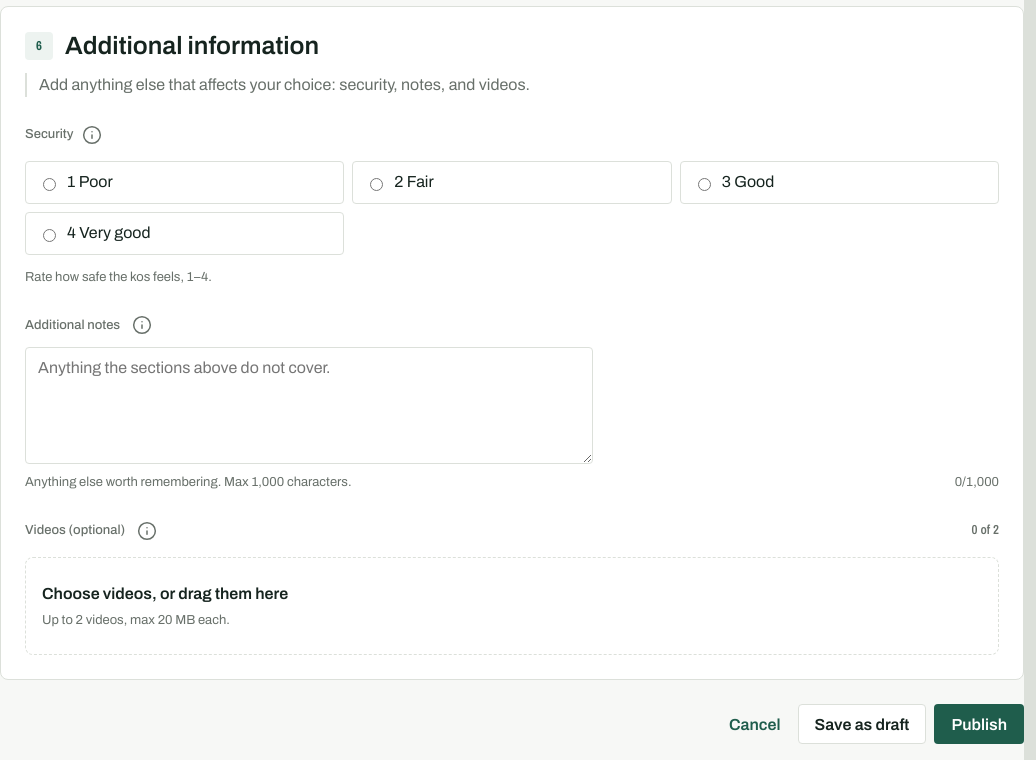
it: saving and leaving › clears an error once its field is fixed and left, and counts the section down
(page scrolled)
Click the button "Publish": [979, 724] box [934,704,1024,744]
(page scrolled)
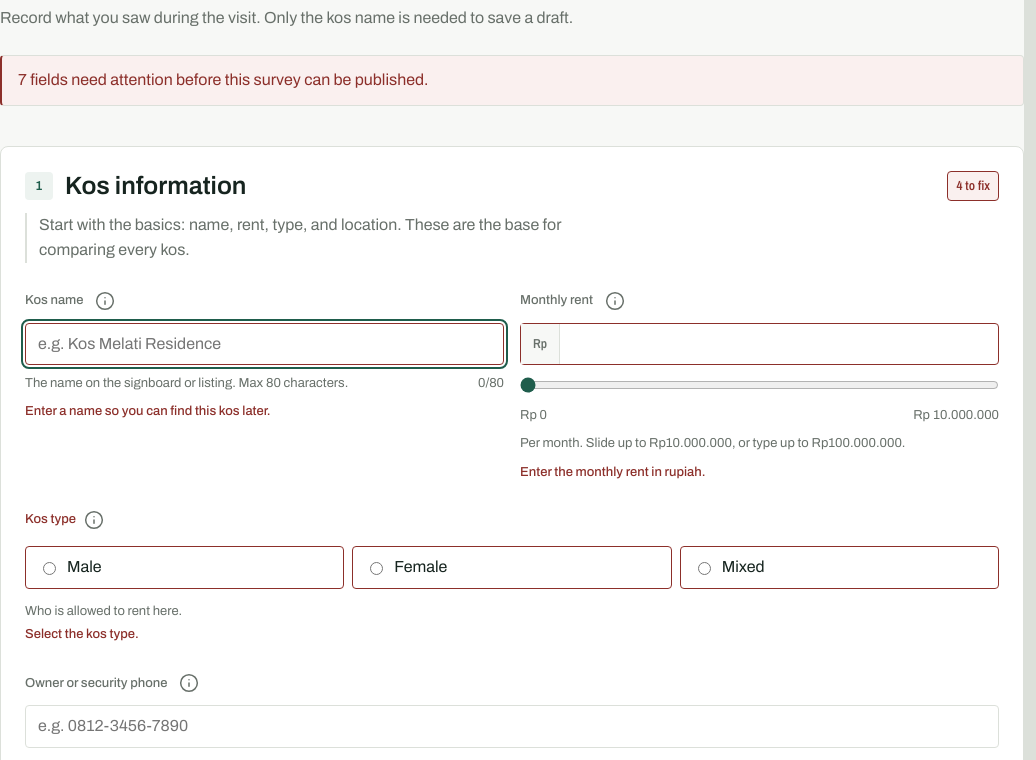
Result: the text "4 to fix" is shown at [947,171,999,201]
In the field labelled "Kos name": [264, 344] box [25,322,504,365], type "Kos Fixed"
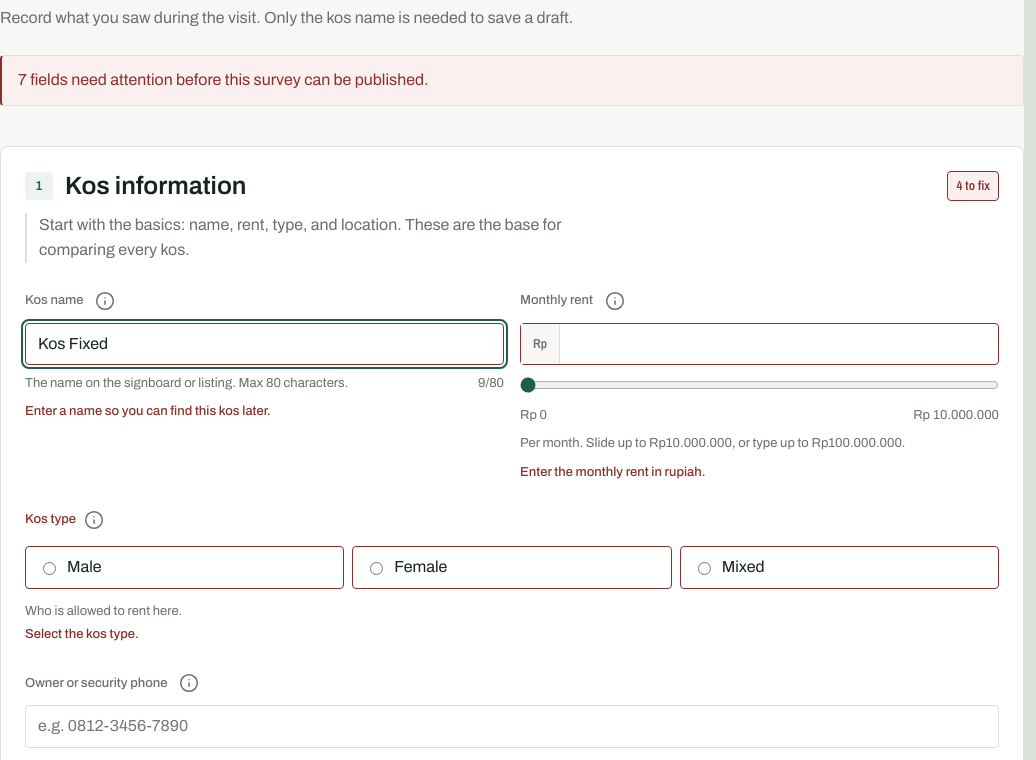
Result: the text "Enter a name so you can find this kos later." is shown at [25,404,271,418]
Leave the field labelled "Kos name", box [25,322,504,365]
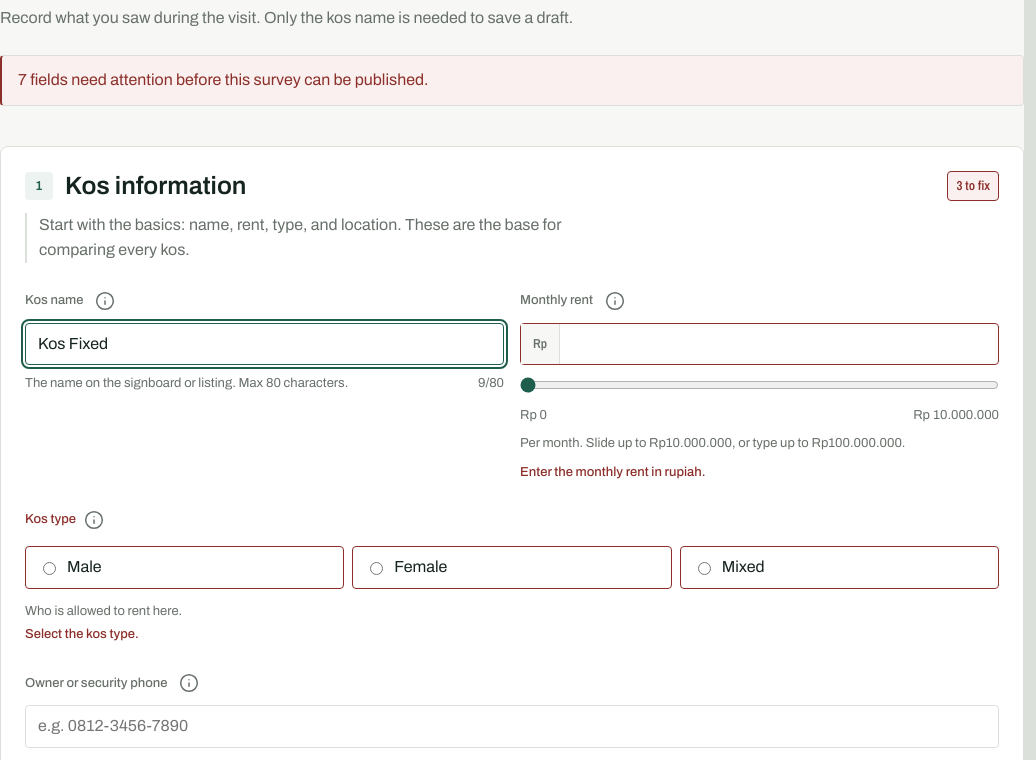
Result: the text with id "error-name" is gone
Result: the text "3 to fix" is shown at [947,171,999,201]
Click the radio button labelled "Mixed": [704, 569] box [698,562,711,575]
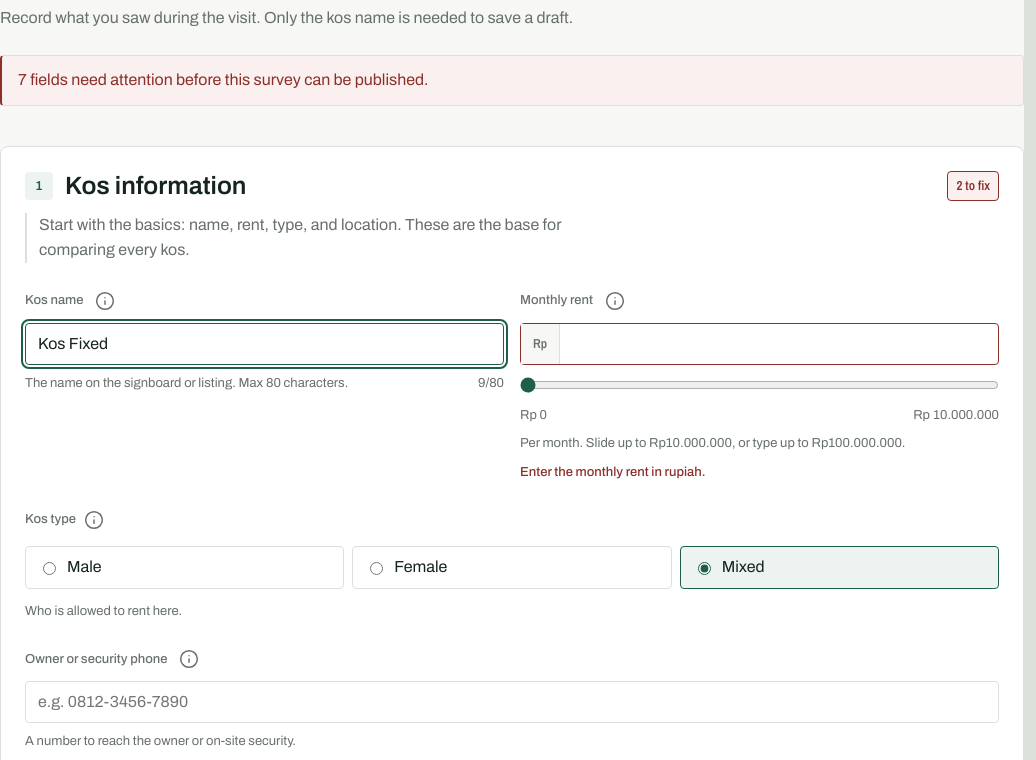
Result: the text "2 to fix" is shown at [947,171,999,201]
